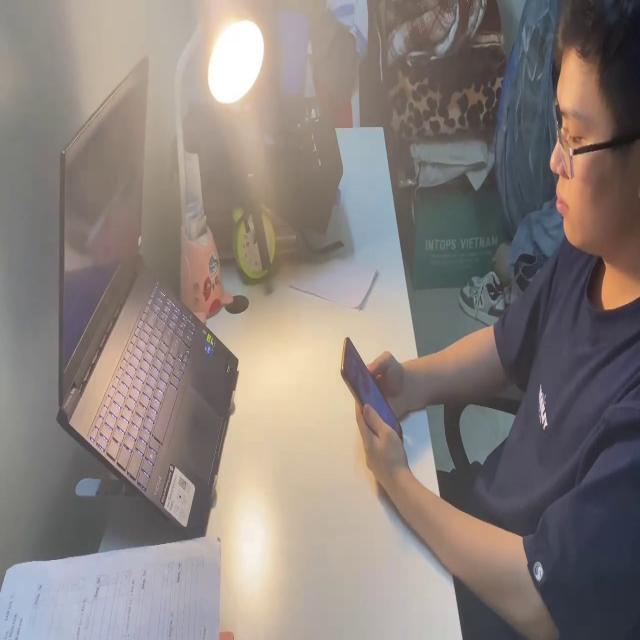book: (0, 530, 223, 640), (284, 247, 379, 316)
laptop: (51, 47, 241, 532)
phone: (339, 335, 405, 449)
student: (354, 0, 640, 640)
